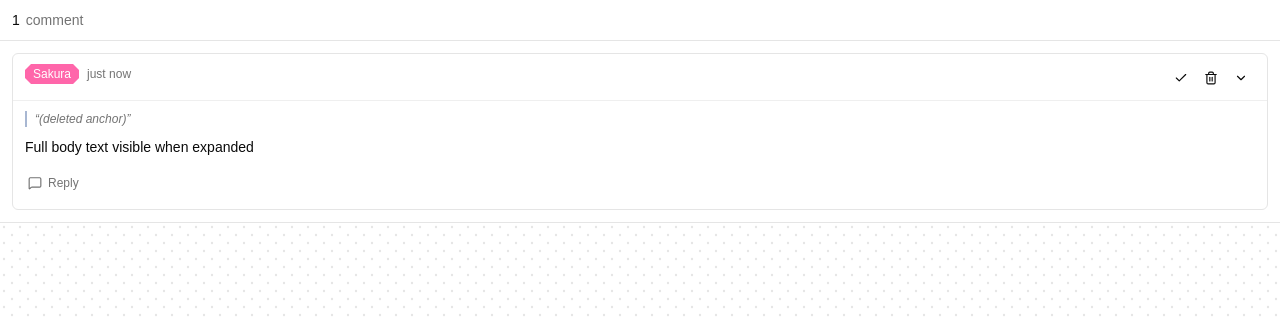
Test: CommentsTab › collapses and expands a thread when the control is clicked
The image size is (1280, 333).
expect the text "Full body text visible when expanded" is shown: met, box [25, 139, 254, 155]
Click the button named "Collapse" at (1241, 78), box [1227, 64, 1255, 92]
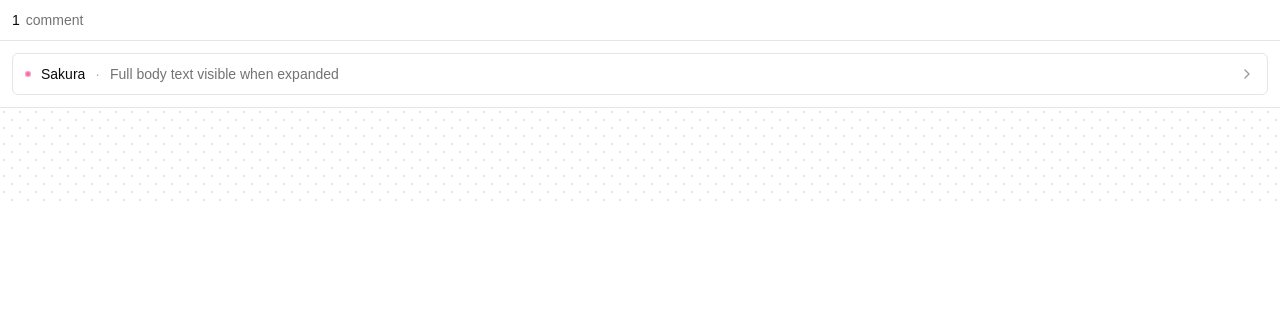
expect the button "Sakura · Full body text visible when expanded" is shown: met, box [13, 54, 1267, 94]
